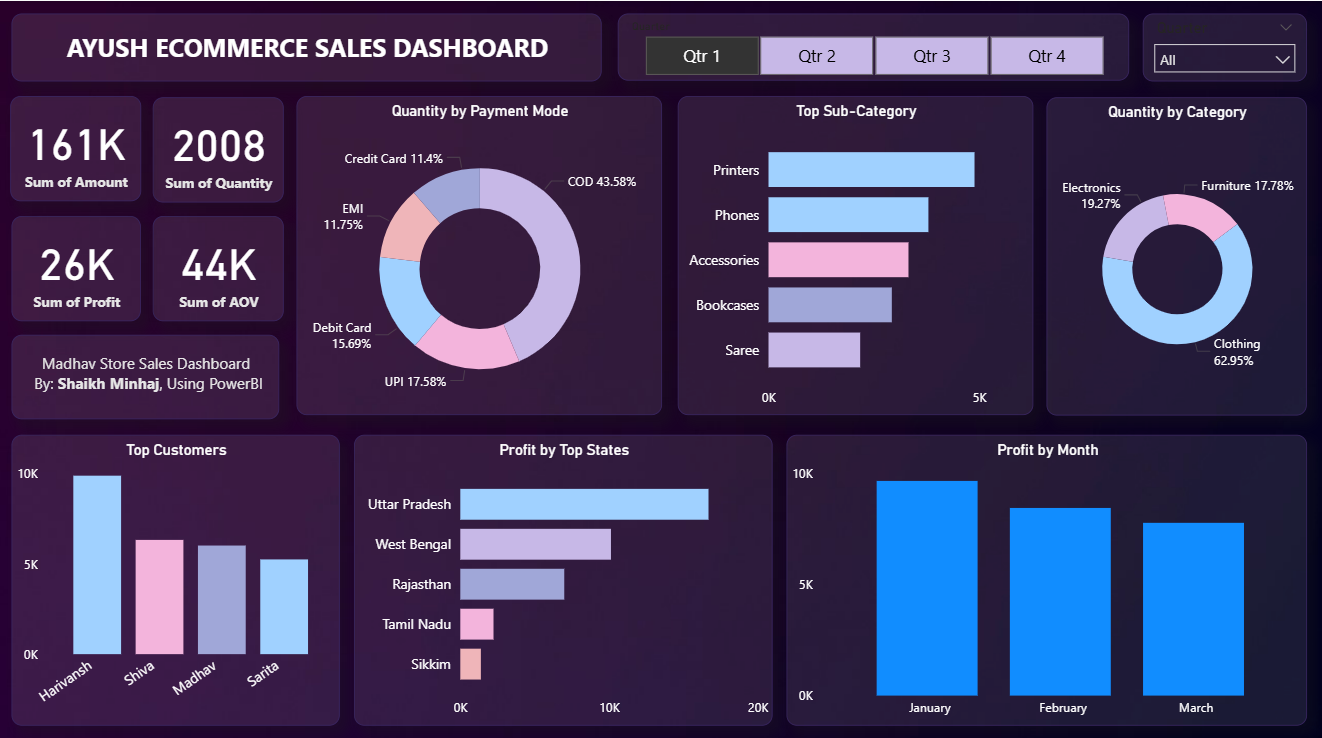

The dashboard page shown, as its layout file describes it:
{"tool":"powerbi","page":{"name":"Page 1","canvas":[1280,720],"ordinal":0},"visuals":[{"type":"textbox","box":[12.5,12.5,569.4,65.3],"z":0},{"type":"columnChart","title":"Profit by Month","fields":{"Category":["Orders.Order Date.Variation.Date Hierarchy.Month"],"Y":["Details.Profit"]},"box":[759.7,418.1,502.8,280.6],"z":1000},{"type":"barChart","title":"Top Sub-Category","fields":{"Category":["Details.Sub-Category"],"Y":["Details.Profit"]},"box":[655.6,91.7,343.1,308.3],"z":2000},{"type":"donutChart","title":"Quantity by Category","fields":{"Category":["Details.Category"],"Y":["Details.Quantity"]},"box":[1011.1,93.1,251.4,306.9],"z":3000},{"type":"donutChart","title":"Quantity by Payment Mode","fields":{"Category":["Details.PaymentMode"],"Y":["Details.Quantity"]},"box":[287.5,91.7,352.8,308.3],"z":4000},{"type":"card","fields":{"Values":["Details.Average Order Value"]},"box":[148.6,206.9,126.4,101.4],"z":5000},{"type":"card","fields":{"Values":["Details.Quantity"]},"box":[148.6,93.1,126.4,101.4],"z":6000},{"type":"card","fields":{"Values":["Details.Profit"]},"box":[12.5,206.9,125,101.4],"z":7000},{"type":"card","fields":{"Values":["Details.Amount"]},"box":[11.1,91.7,126.4,101.4],"z":8000},{"type":"barChart","title":"Profit by Top States","fields":{"Category":["Orders.State"],"Y":["Details.Amount"]},"box":[343.1,418.1,404.2,280.6],"z":9000},{"type":"columnChart","title":"Top Customers","fields":{"Category":["Orders.CustomerName"],"Y":["Details.Amount"]},"box":[12.5,418.1,316.7,280.6],"z":10000},{"type":"textbox","box":[12.5,322.2,258.3,81.9],"z":11000},{"type":"slicer","title":"Quarterly Statistics","fields":{"Values":["Orders.Order Date.Variation.Date Hierarchy.Quarter"]},"box":[597.2,12.1,493.4,65.1],"z":12000},{"type":"slicer","title":"Monthly Statistics","fields":{"Values":["Orders.Order Date.Variation.Date Hierarchy.Month"]},"box":[1104.2,12.5,158.3,65.3],"z":13000}]}

Visuals, with their boxes in screenshot pixels (x1, y1, x2, y2), scaled from the page's 1280x720 canvas onto the 1322x738 screenshot:
textbox: [left=13, top=13, right=601, bottom=80]
"Profit by Month" columnChart: [left=785, top=429, right=1304, bottom=716]
"Top Sub-Category" barChart: [left=677, top=94, right=1031, bottom=410]
"Quantity by Category" donutChart: [left=1044, top=95, right=1304, bottom=410]
"Quantity by Payment Mode" donutChart: [left=297, top=94, right=661, bottom=410]
card - Details.Average Order Value: [left=153, top=212, right=284, bottom=316]
card - Details.Quantity: [left=153, top=95, right=284, bottom=199]
card - Details.Profit: [left=13, top=212, right=142, bottom=316]
card - Details.Amount: [left=11, top=94, right=142, bottom=198]
"Profit by Top States" barChart: [left=354, top=429, right=772, bottom=716]
"Top Customers" columnChart: [left=13, top=429, right=340, bottom=716]
textbox: [left=13, top=330, right=280, bottom=414]
"Quarterly Statistics" slicer: [left=617, top=12, right=1126, bottom=79]
"Monthly Statistics" slicer: [left=1140, top=13, right=1304, bottom=80]
